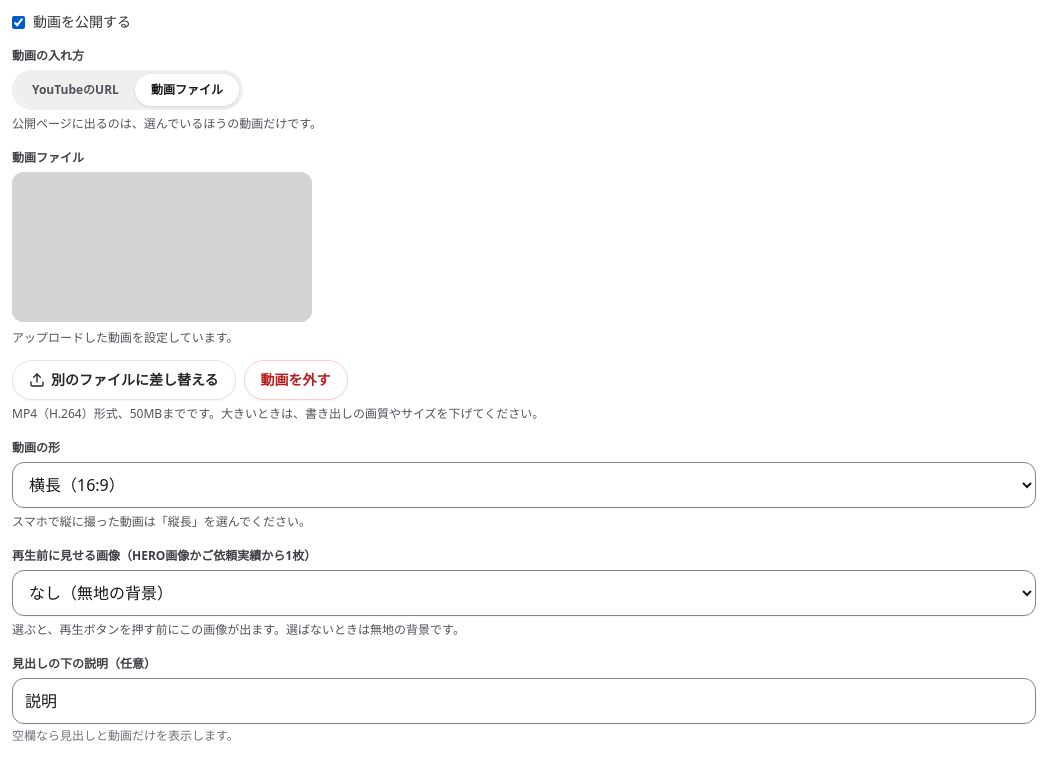
PortfolioProcessVideoEditor 動画ファイル › 動画を外すと、動画ファイルの側のまま空にする
Click the button "動画を外す".
click(296, 380)  # box [244, 360, 348, 400]
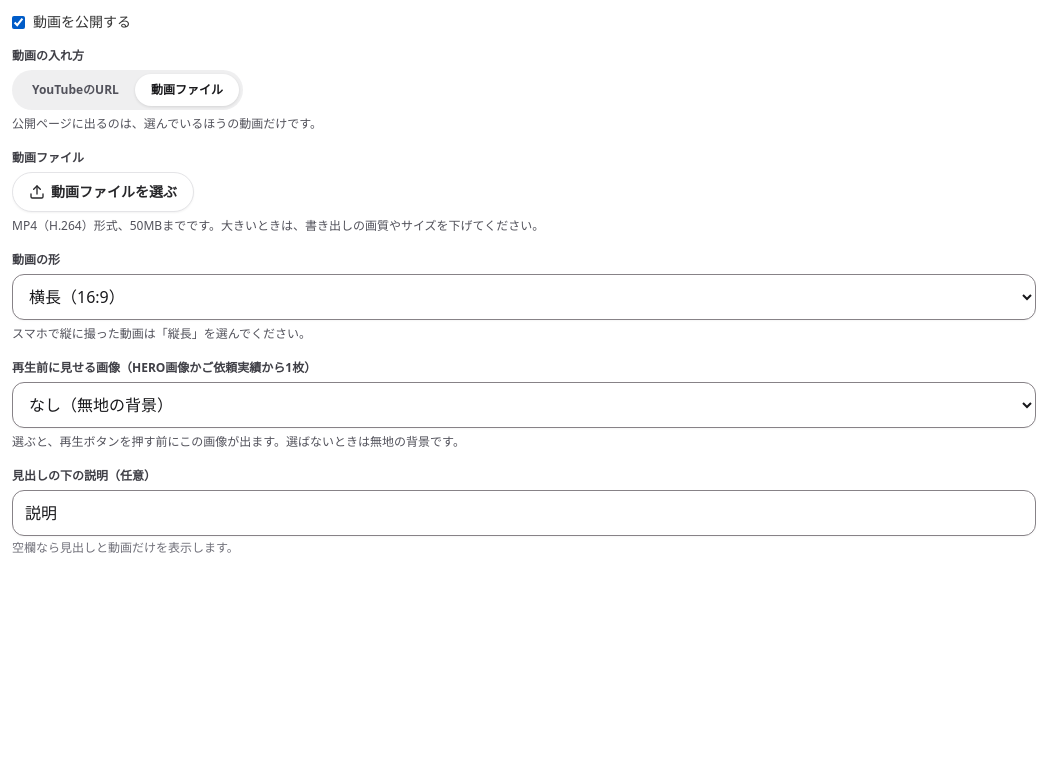
Expected: the button "動画ファイルを選ぶ" is shown, [12, 172, 194, 212]
